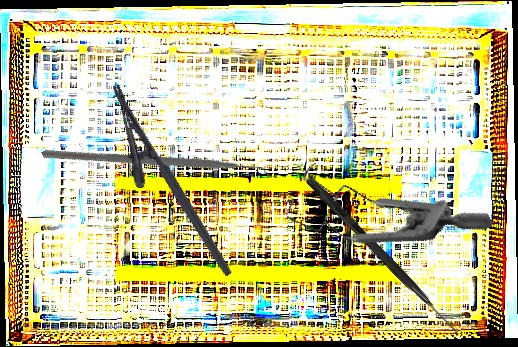Chopper: (41, 63, 273, 273)
Hook Surgical: (303, 175, 463, 336)
Needle Holder: (85, 82, 234, 293)
Speculum: (271, 106, 494, 302)
